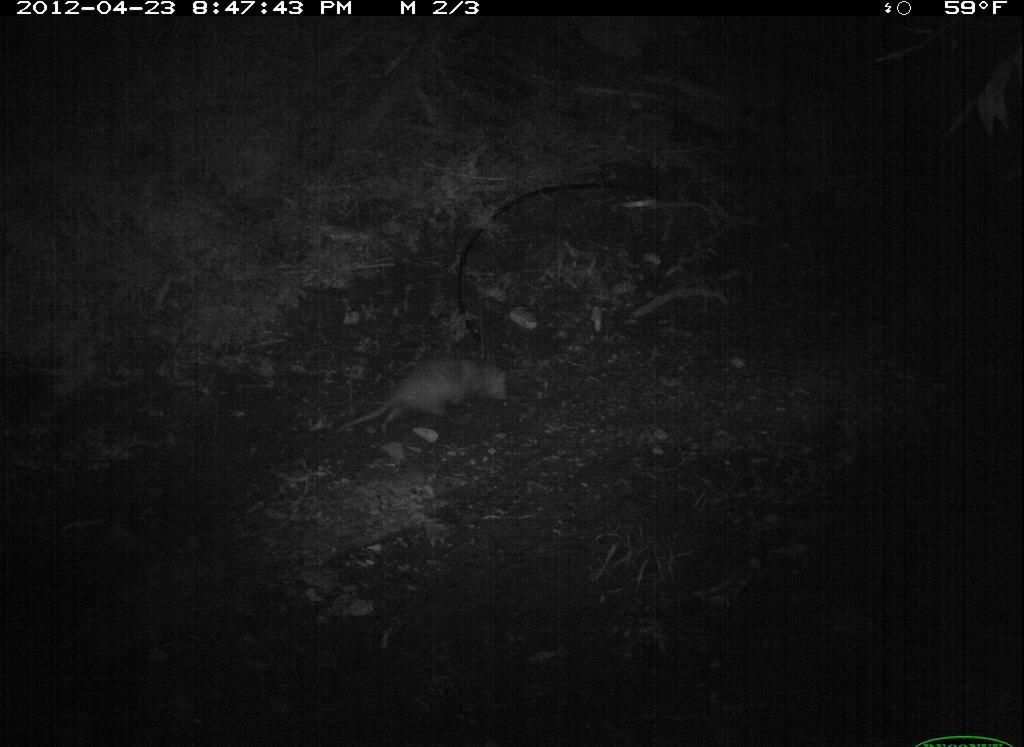opossum: (328, 350, 514, 450)
